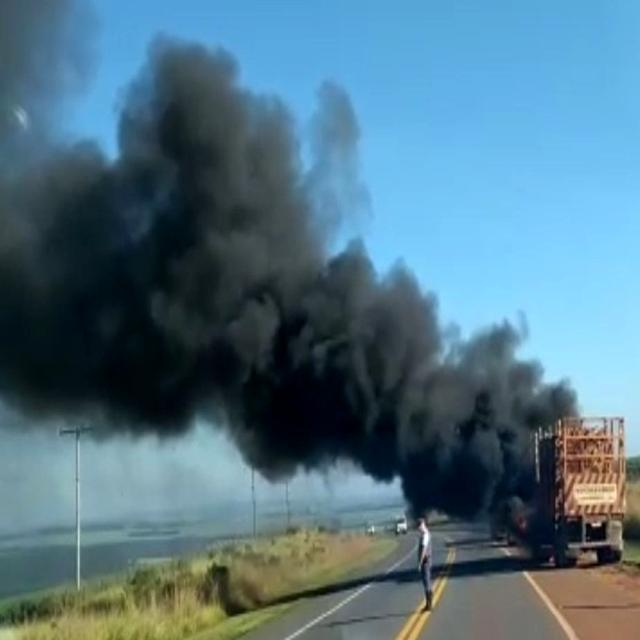Smoke: (6, 0, 556, 511)
